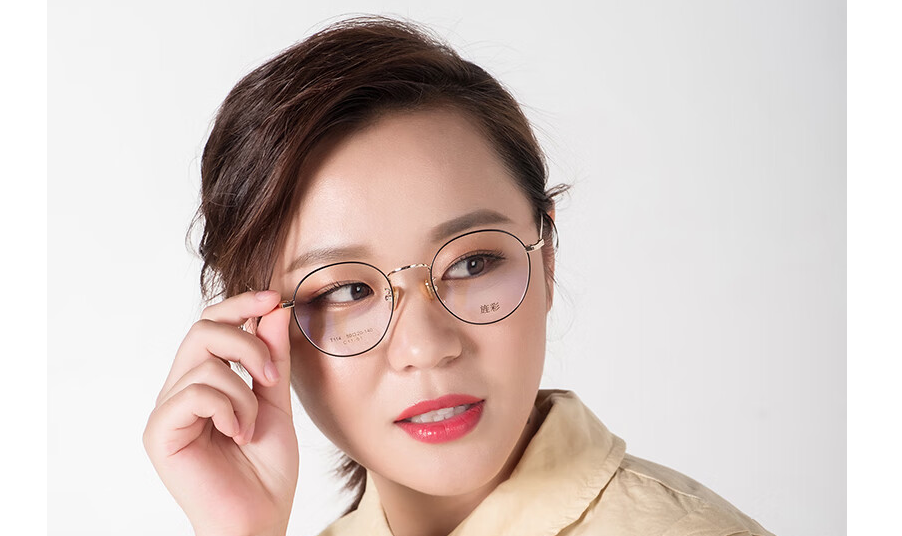glass: (278, 209, 573, 357)
mouth: (381, 388, 512, 447)
